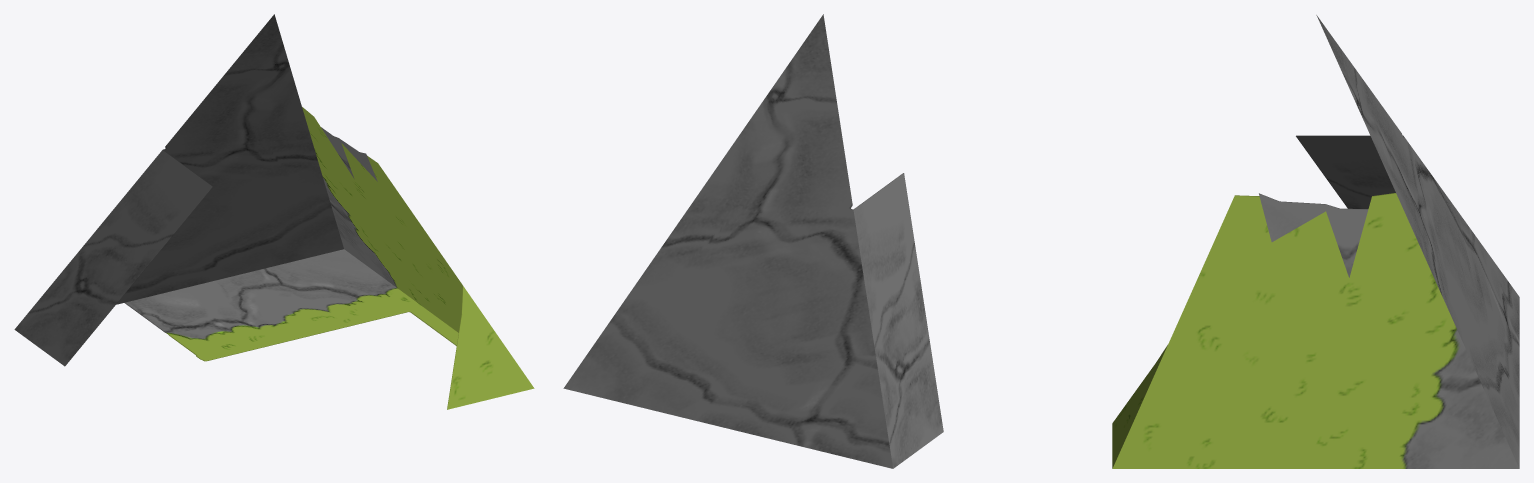
Rendered from spike.fbx.
3 renders of one model, left to right at view 1: azimuth 30°, elevation 25°; view 2: azimuth 150°, elevation 25°; view 3: azimuth 270°, elevation 25°, orthographic. The views are drawn at different scales.
Visible parts, largest first — view 1: Spike; view 2: Spike; view 3: Spike.
Boxes of the visible parts, x1=… form: Spike: x1=14, y1=14, x2=534, y2=409; Spike: x1=563, y1=14, x2=943, y2=468; Spike: x1=1112, y1=15, x2=1519, y2=468.
Size of the model in its own units: 200 by 200 by 200.
